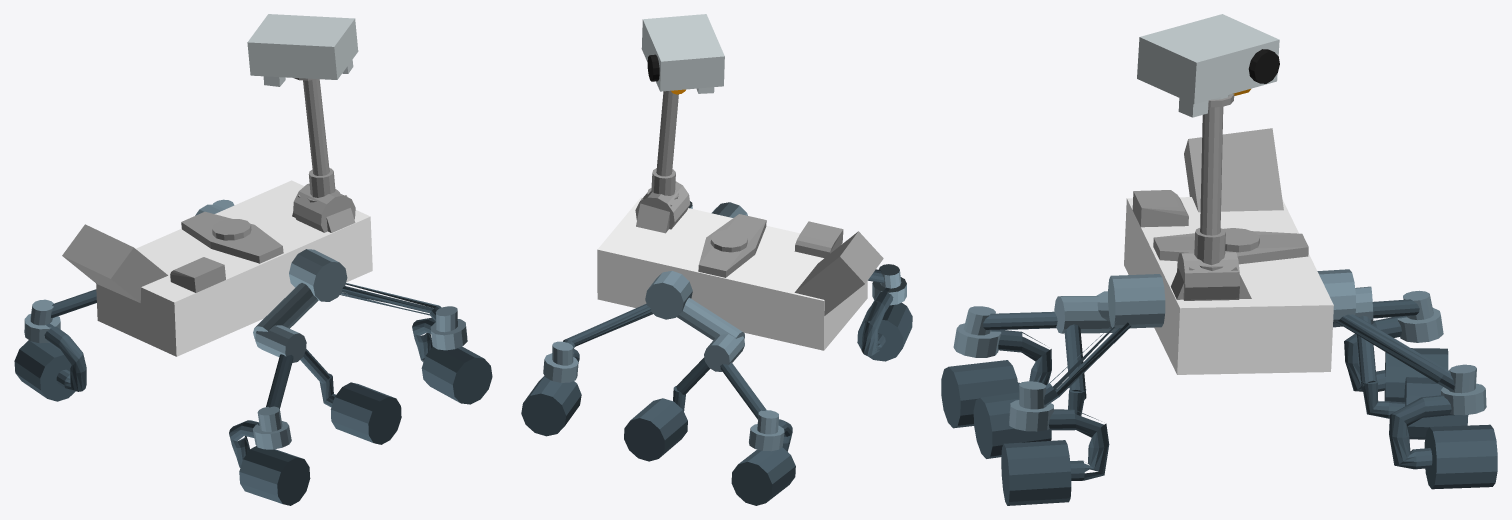
Rendered from curiosity.glb.
3 renders of one model, left to right at view 1: azimuth 30°, elevation 25°; view 2: azimuth 150°, elevation 25°; view 3: azimuth 270°, elevation 25°, orthographic. The views are drawn at different scales.
Visible parts, largest first — view 1: Node; view 2: Node; view 3: Node.
Part boxes in pixels (x1,y1,x2,y2): Node: (14,14,492,505); Node: (521,14,912,505); Node: (941,14,1497,505).
Size of the model in its own units: 1.34 by 1.51 by 1.61.
